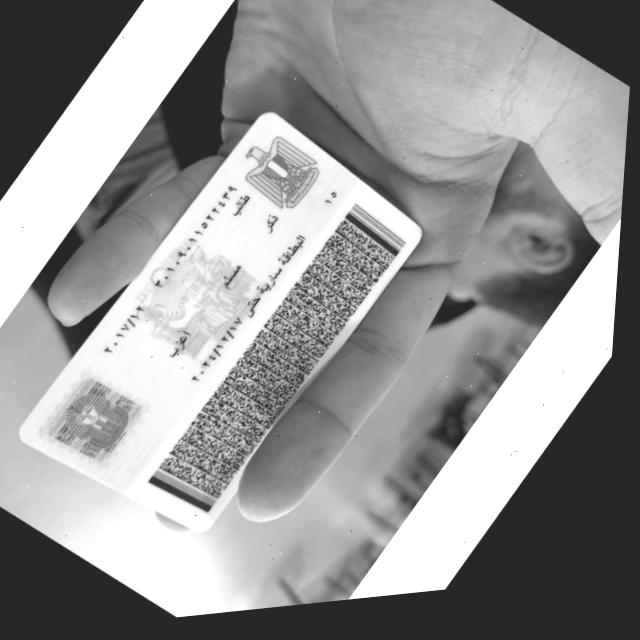id_card: (18, 111, 421, 530)
